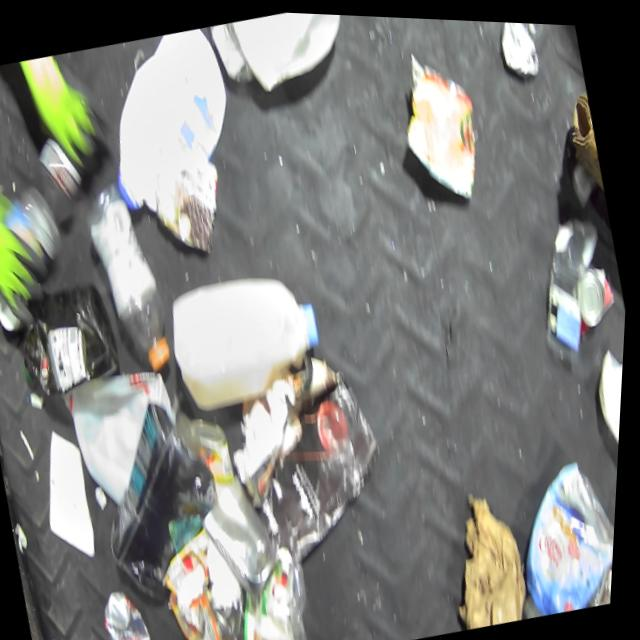can: (195, 466, 291, 601), (191, 408, 243, 488), (103, 580, 170, 640), (572, 259, 615, 322)
milk_jug: (88, 19, 253, 216), (162, 256, 336, 416), (59, 357, 195, 512), (224, 8, 357, 97)
plastic_bottle: (75, 173, 186, 379)
